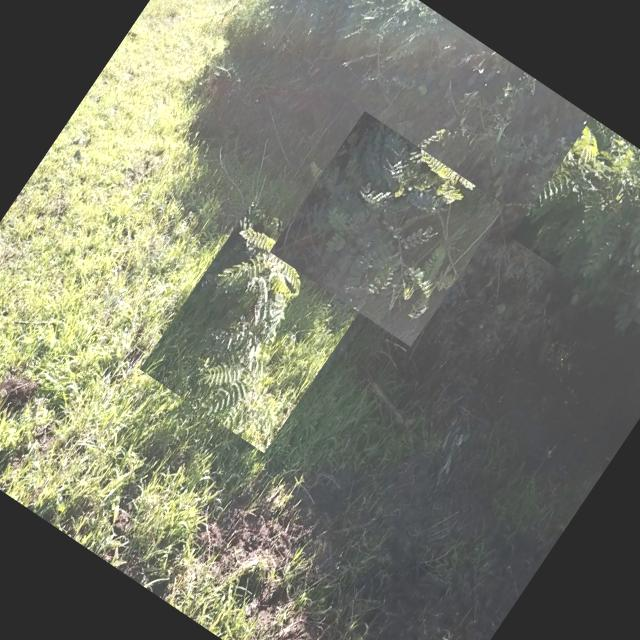Mysore-Thorn-Weed: (140, 202, 378, 454), (270, 111, 506, 347), (511, 117, 640, 351)
